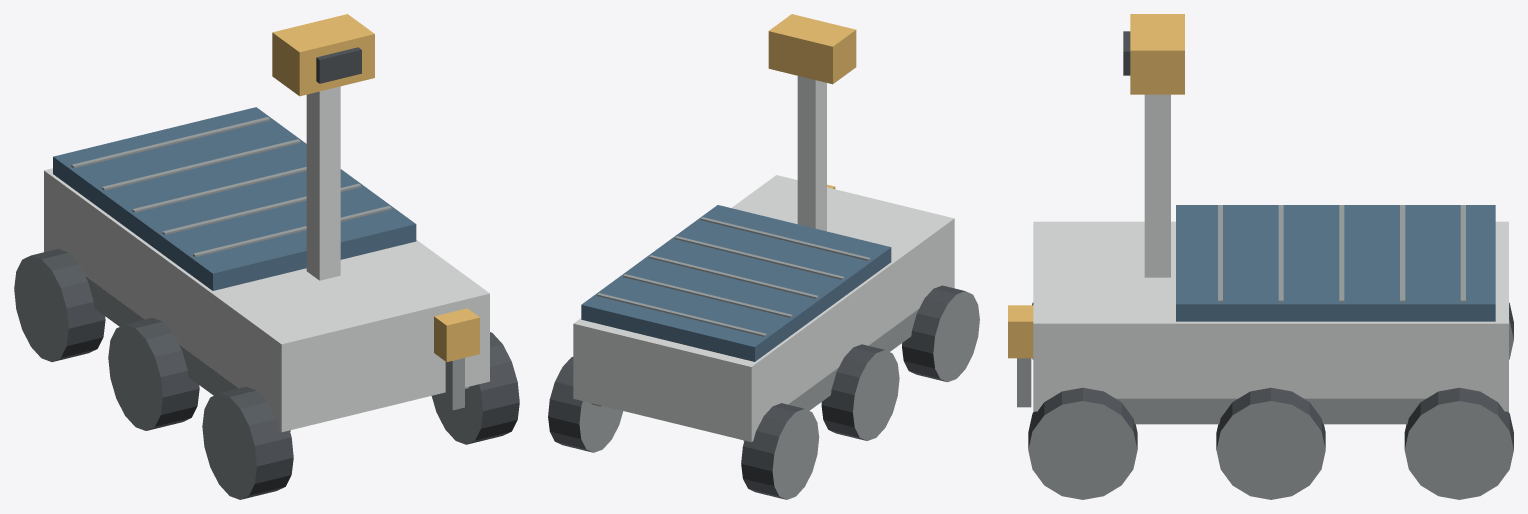
Rendered from rover.glb.
3 views of the same model, side by side, from view 1: azimuth 30°, elevation 25°; view 2: azimuth 150°, elevation 25°; view 3: azimuth 270°, elevation 25° (orthographic). The views are drawn at different scales.
Visible parts, largest first — view 1: Vestige drill rover; view 2: Vestige drill rover; view 3: Vestige drill rover.
Part boxes in pixels (<box>): Vestige drill rover: <box>14,14,519,499</box>; Vestige drill rover: <box>548,14,979,499</box>; Vestige drill rover: <box>1008,14,1513,499</box>.
Size of the model in its own units: 1.5 by 2.2 by 2.5.
